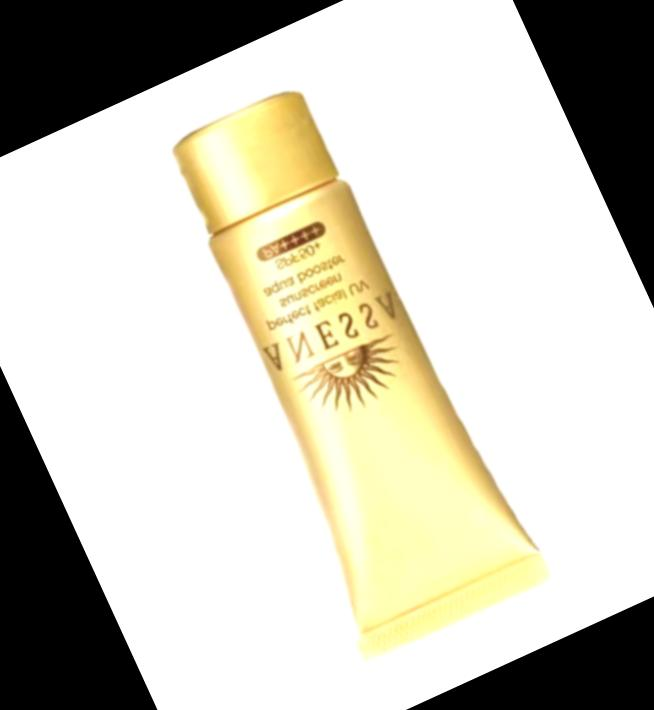cosmetic: (129, 71, 554, 664)
